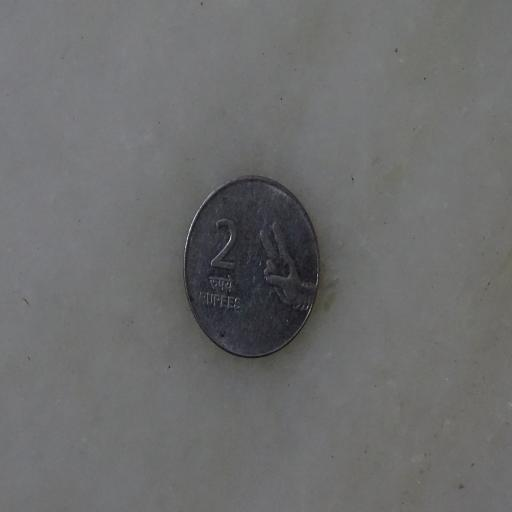rupee2: (180, 174, 323, 363)
